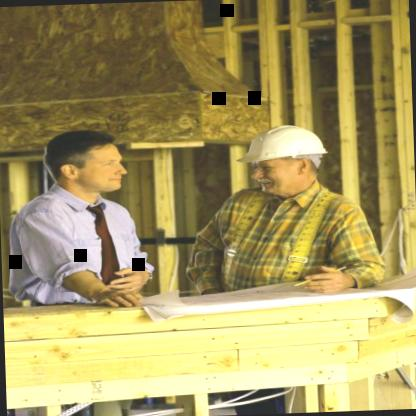head: (36, 124, 136, 199)
helmet: (240, 121, 338, 200)
